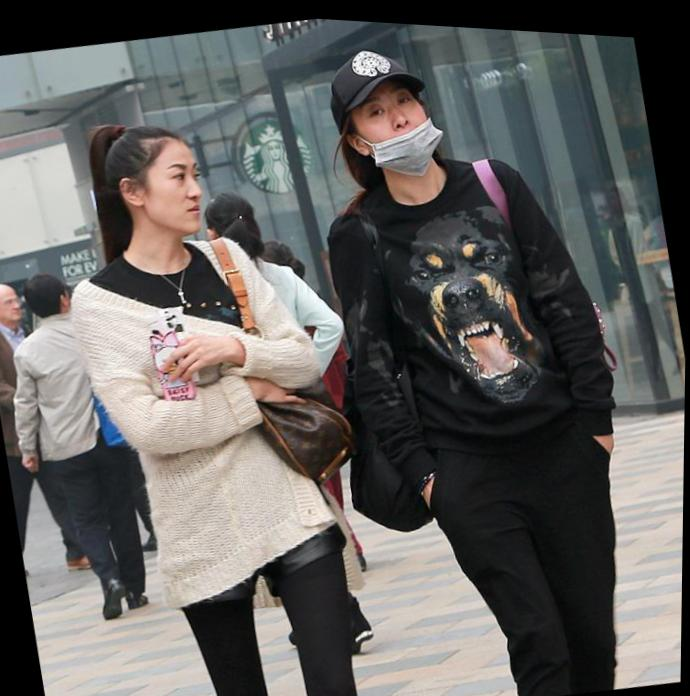NONE: (148, 154, 218, 234), (1, 290, 29, 326)
WRONG: (353, 67, 451, 169)
